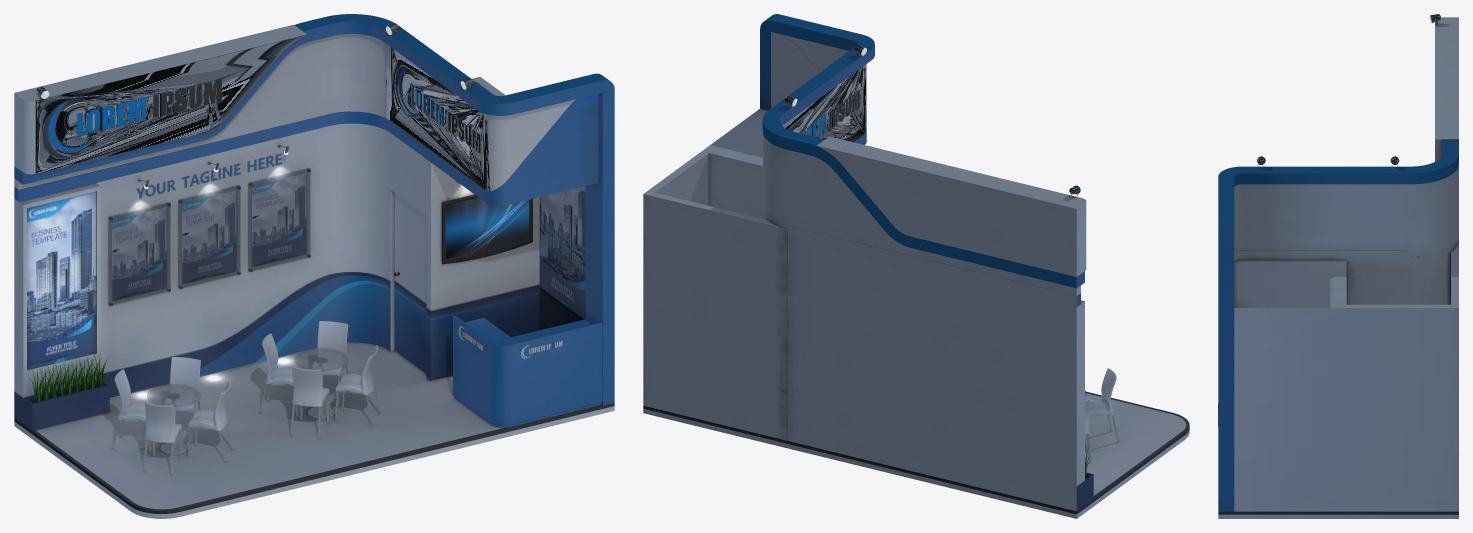
3 views of the same model, side by side, from view 1: azimuth 30°, elevation 25°; view 2: azimuth 150°, elevation 25°; view 3: azimuth 270°, elevation 25° (orthographic). The views are drawn at different scales.
Parts seen in each view (by area): view 1: white_contruction, backroop, blue_contruction, poster, transparent, chair, illuminate_logo, Object174_Object174_mtl_0, silver, legs_chair, plant, croopping_logo (+2 smaller); view 2: white_contruction, blue_contruction, silver, chair, illuminate_logo; view 3: white_contruction, blue_contruction, silver.
Part boxes in pixels (<box>): white_contruction: <box>14,24,614,518</box>; backroop: <box>97,123,539,398</box>; blue_contruction: <box>14,14,614,430</box>; poster: <box>27,172,585,370</box>; transparent: <box>108,168,347,407</box>; chair: <box>114,321,377,442</box>; illuminate_logo: <box>43,66,480,157</box>; Object174_Object174_mtl_0: <box>445,197,529,259</box>; silver: <box>14,168,614,513</box>; legs_chair: <box>112,357,380,474</box>; plant: <box>27,354,109,402</box>; croopping_logo: <box>136,153,562,359</box>; white_contruction: <box>643,32,1189,518</box>; blue_contruction: <box>760,14,1093,510</box>; silver: <box>643,391,1189,514</box>; chair: <box>1085,368,1116,434</box>; illuminate_logo: <box>789,90,859,137</box>; white_contruction: <box>1218,17,1458,518</box>; blue_contruction: <box>1218,140,1458,511</box>; silver: <box>1218,511,1458,514</box>.
Size of the model in its own units: 605 by 423 by 300.
20 materials, 20 textured.
